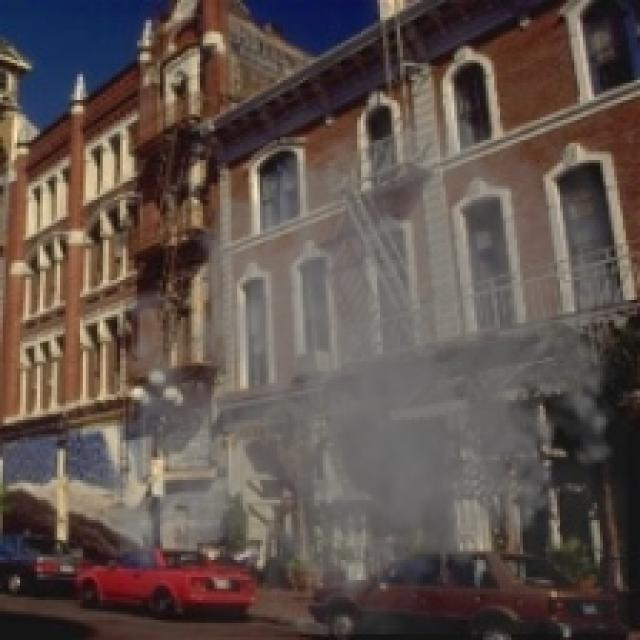smoke: (92, 72, 637, 637)
